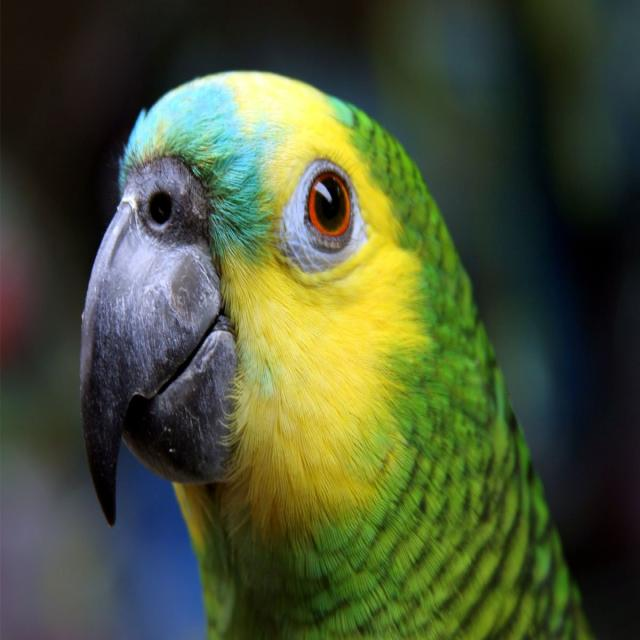Parrot: (70, 71, 581, 640)
